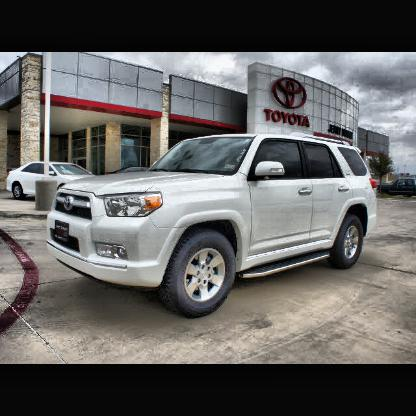Toyota 4Runner SUV 2012: (47, 135, 378, 321)
